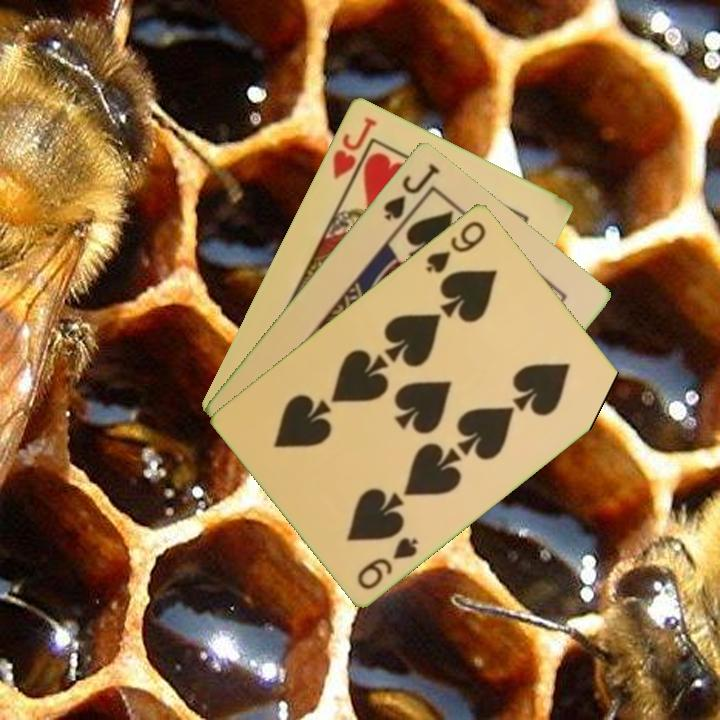9s: (353, 533, 422, 592), (422, 217, 489, 276)
Jh: (328, 113, 380, 193)
Js: (380, 159, 443, 223)
